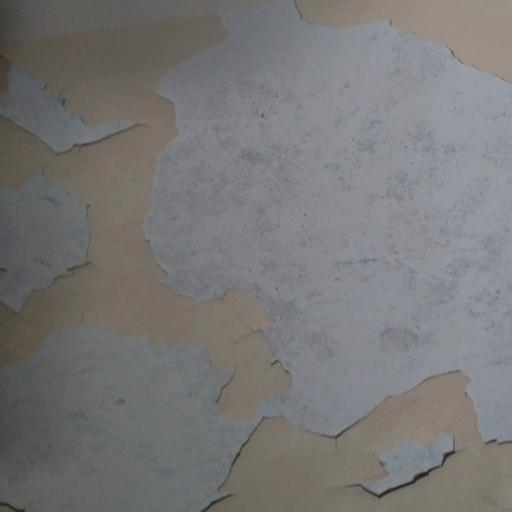peeling: (141, 9, 512, 444), (0, 315, 272, 511), (6, 60, 165, 167), (0, 169, 108, 319), (345, 424, 462, 506)
